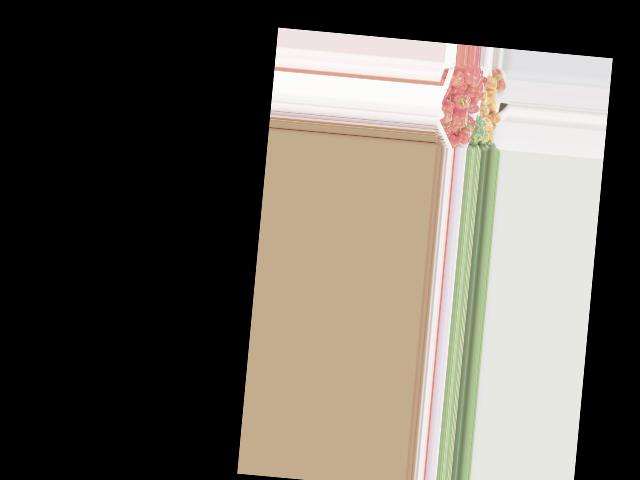bell_pepper: (438, 98, 454, 124)
